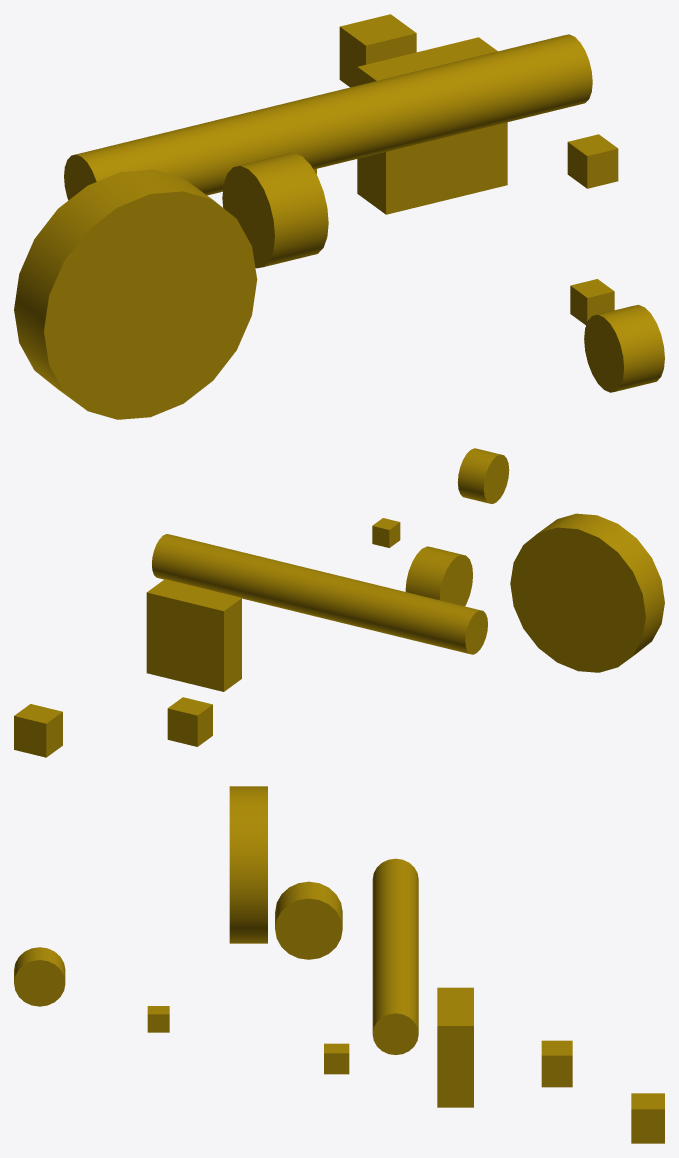
Rendered from Key Puzzle.fbx.
The picture shows the model from 3 angles, top to bottom: view 1: azimuth 30°, elevation 25°; view 2: azimuth 150°, elevation 25°; view 3: azimuth 270°, elevation 25°; orthographic projection. The views are drawn at different scales.
Parts seen in each view (by area): view 1: pCylinder1, pCylinder2, pCube1, pCylinder3, pCylinder4, pCube6, pCube3, pCube2; view 2: pCylinder1, pCylinder2, pCube1, pCylinder3, pCylinder4, pCube6, pCube4, pCube2; view 3: pCylinder2, pCylinder1, pCube1, pCylinder3, pCylinder4, pCube6, pCube4, pCube3, pCube2.
Part boxes in pixels (box(x1,y1,x2,y2)): pCylinder1: box(14, 169, 257, 419); pCylinder2: box(64, 34, 592, 200); pCube1: box(357, 37, 507, 214); pCylinder3: box(222, 153, 328, 268); pCylinder4: box(584, 304, 664, 392); pCube6: box(339, 14, 416, 87); pCube3: box(567, 134, 618, 188); pCube2: box(570, 279, 614, 325); pCylinder1: box(510, 513, 664, 672); pCylinder2: box(152, 534, 487, 654); pCube1: box(146, 579, 241, 691); pCylinder3: box(405, 546, 472, 606); pCylinder4: box(457, 448, 509, 503); pCube6: box(14, 704, 62, 757); pCube4: box(167, 697, 212, 746); pCube2: box(372, 518, 400, 547); pCylinder2: box(372, 858, 418, 1054); pCylinder1: box(229, 786, 267, 943); pCube1: box(437, 987, 473, 1107); pCylinder3: box(275, 881, 342, 959); pCylinder4: box(14, 947, 65, 1006); pCube6: box(631, 1093, 664, 1143); pCube4: box(541, 1040, 572, 1087); pCube3: box(324, 1043, 349, 1074); pCube2: box(147, 1006, 169, 1032).
Bounding box in the file's own units: 6.42 × 2.35 × 8.22.
